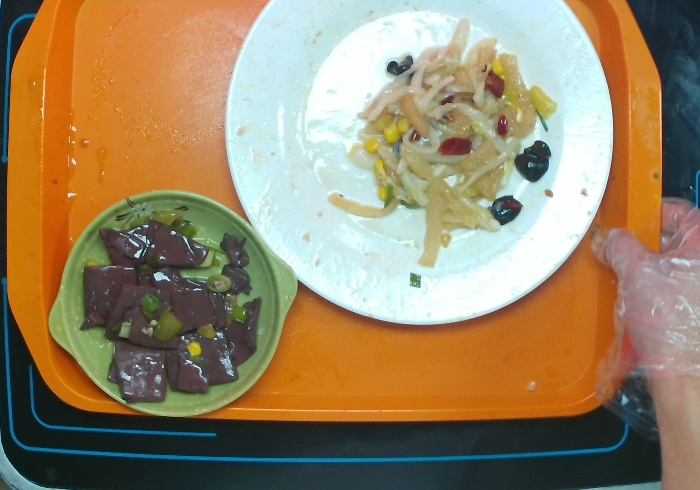NLDX-Da_Yuan_Pan: (220, 1, 618, 333)
NLDX-Lv_Hua_Shuang_Er_Die: (44, 186, 303, 423)
